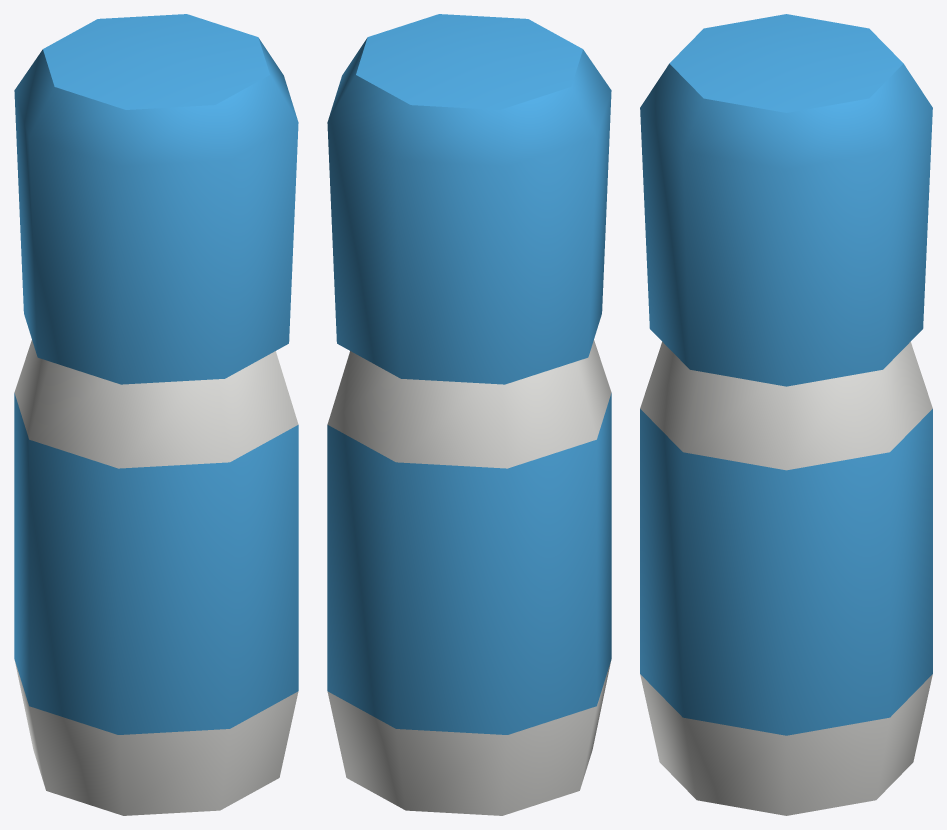
Rendered from frasco_desodorante_azul.glb.
3 views of the same model, side by side, from view 1: azimuth 30°, elevation 25°; view 2: azimuth 150°, elevation 25°; view 3: azimuth 270°, elevation 25° (orthographic).
Parts seen in each view (by area): view 1: frasco_desodorante_azul; view 2: frasco_desodorante_azul; view 3: frasco_desodorante_azul.
Boxes of the visible parts, x1,y1,x2,y2 form: frasco_desodorante_azul: (14,14,298,815); frasco_desodorante_azul: (327,14,611,815); frasco_desodorante_azul: (640,14,932,815).
Size of the model in its own units: 0.06 by 0.16 by 0.06.
1 material, 1 textured.
